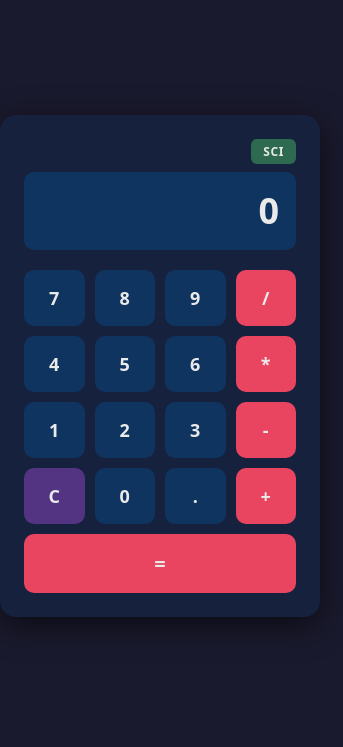
Test case: Calculator › calculus → basic cycles back correctly
The image size is (343, 747).
Click the button with aria-label "Switch to scientific mode".
click(274, 152)  # box top-left (251, 139), bottom-right (296, 164)
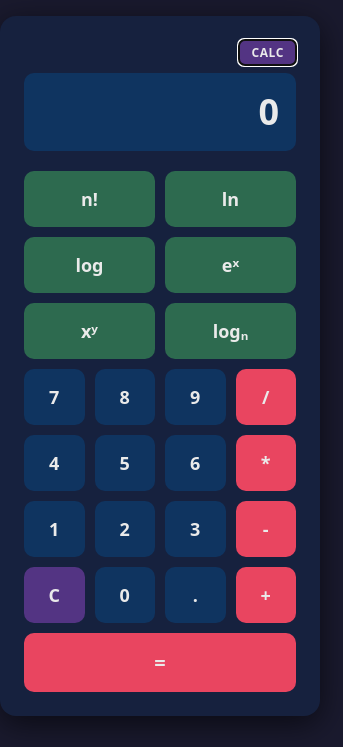
Click the button with aria-label "Switch to calculus mode".
click(268, 52)  # box top-left (240, 40), bottom-right (296, 65)
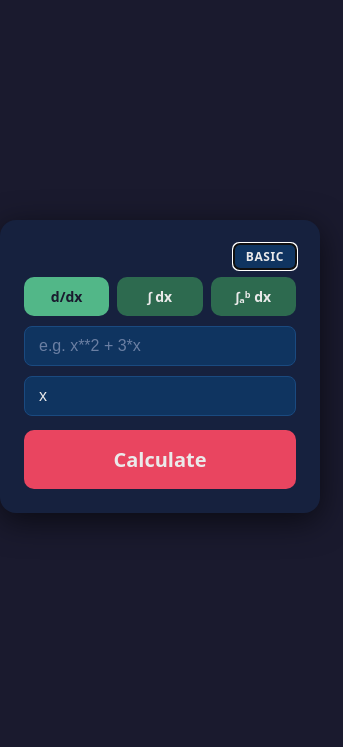
Click the button with aria-label "Switch to basic mode".
click(265, 256)  # box top-left (234, 244), bottom-right (296, 268)
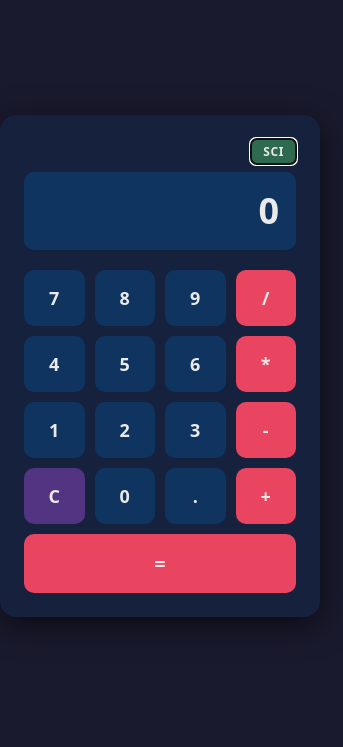
Check: the element with class "calculus-panel" is gone
Check: the button with class "calc-button-grid" is shown, box top-left (24, 270), bottom-right (296, 593)
Check: the message "0" is shown, box top-left (24, 172), bottom-right (296, 250)
